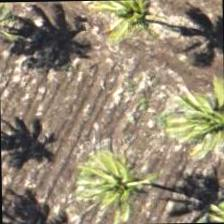Kelapa_Sawit: (66, 142, 158, 223), (93, 0, 185, 58)
